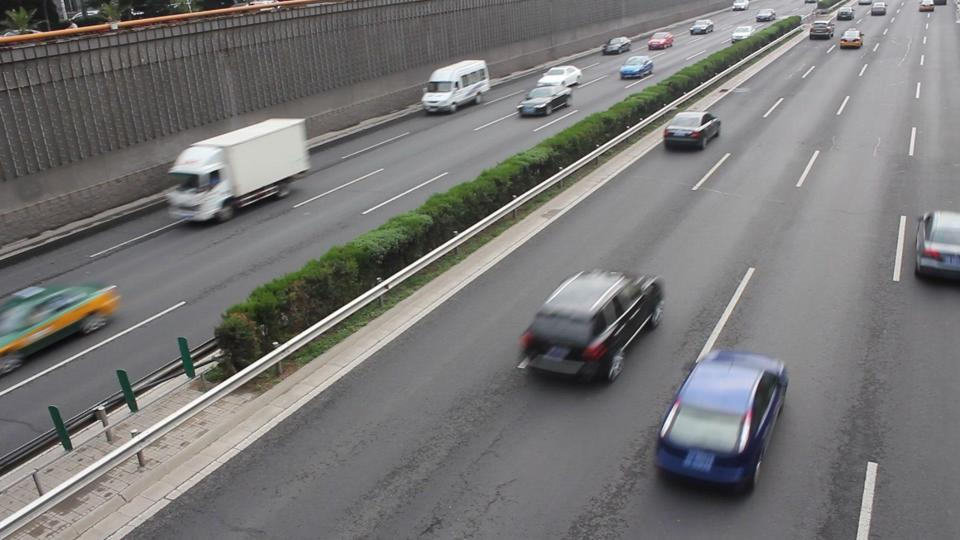Car: (649, 348, 784, 490), (515, 268, 662, 385), (1, 282, 117, 356), (911, 209, 960, 281), (661, 109, 719, 151), (515, 84, 571, 117)
Minivan: (420, 59, 488, 112)
Truck: (169, 118, 306, 219)
